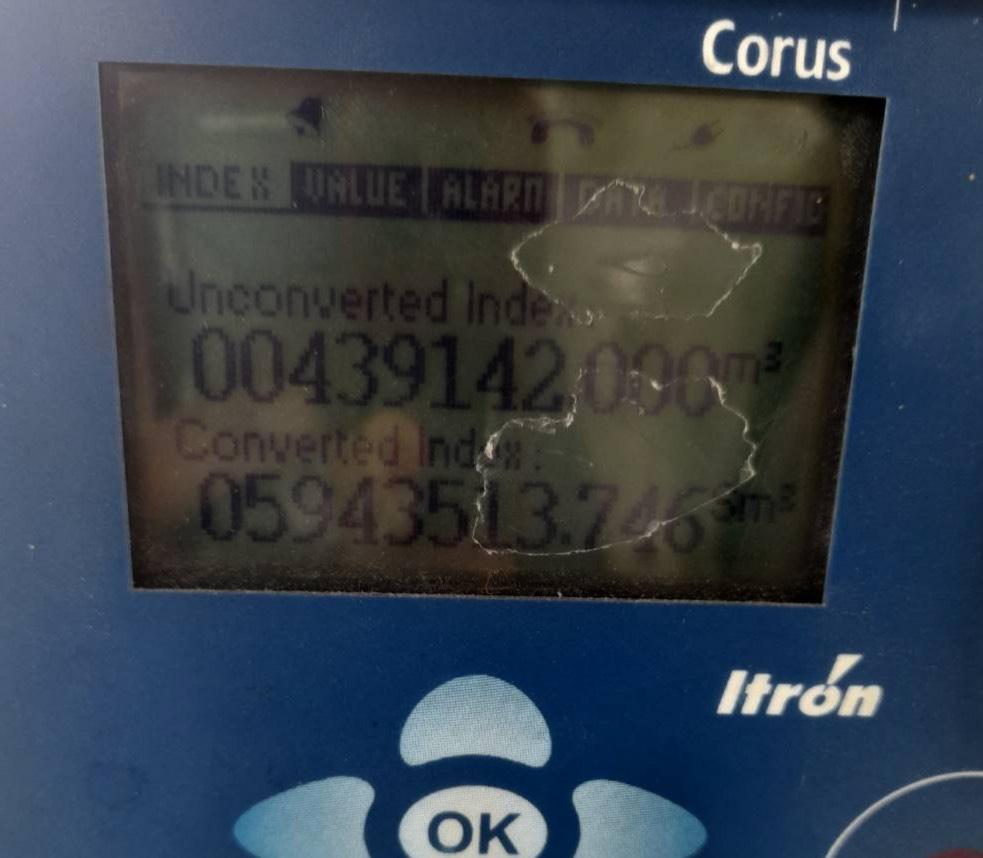digital_screen: (88, 63, 890, 607)
